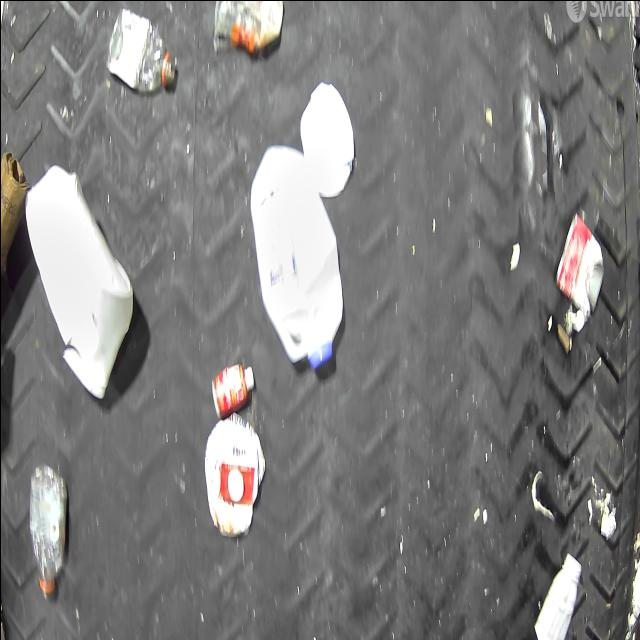can: (556, 212, 604, 316)
milk_jug: (248, 146, 344, 372)
plastic_bottle: (104, 7, 179, 96), (27, 463, 68, 598)
